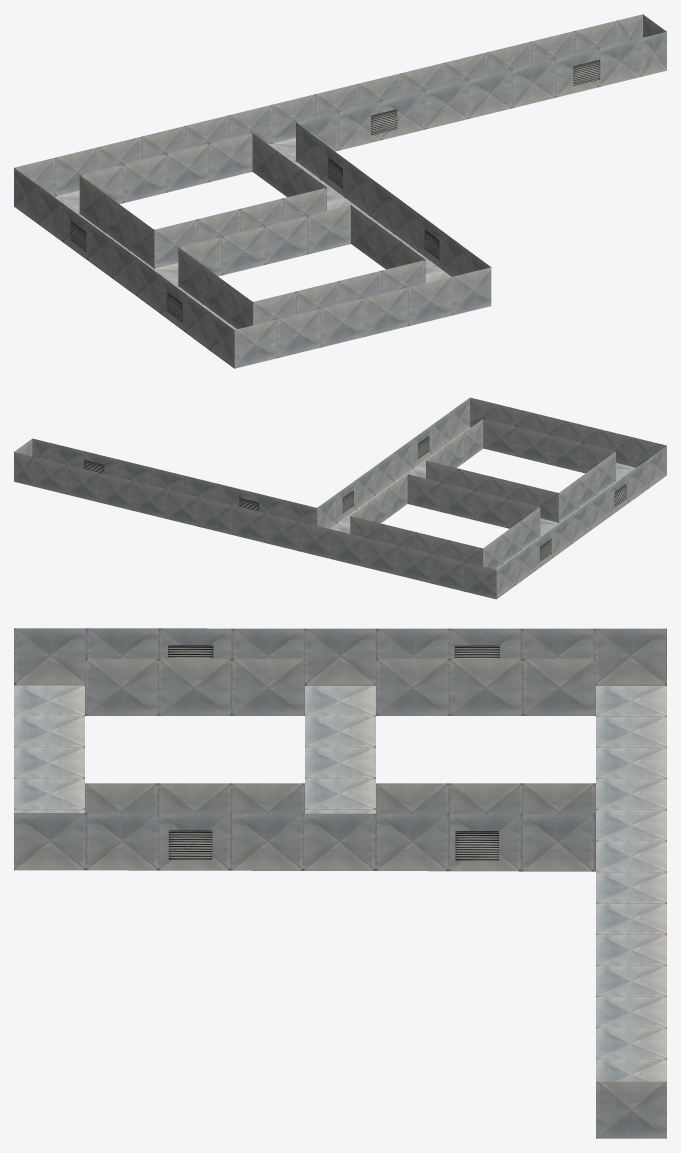
The model's file is VentLayout.fbx.
The picture shows the model from 3 angles, top to bottom: view 1: azimuth 30°, elevation 25°; view 2: azimuth 150°, elevation 25°; view 3: azimuth 270°, elevation 25°; orthographic projection. The views are drawn at different scales.
Parts seen in each view (by area): view 1: VentWall1, VentWall3, VentWall5, VentWall6, VentWall4, VentInteriorWall1, VentInteriorWall5, VentInteriorWall3, VentInteriorWall7, VentInteriorWall4, VentInteriorWall8, VentFloor (+4 smaller); view 2: VentWall1, VentWall3, VentWall6, VentWall4, VentWall5, VentInteriorWall3, VentInteriorWall7, VentInteriorWall5, VentInteriorWall1, VentInteriorWall8, VentInteriorWall4, VentFloor (+2 smaller); view 3: VentFloor, VentWall4, VentWall6, VentInteriorWall4, VentInteriorWall8, VentInteriorWall2, VentInteriorWall6, VentWall2, VentInsideDoor4, VentInsideDoor3.
Boxes of the visible parts, box(x1,y1,x2,y2) form: VentWall1: box(14, 14, 642, 196); VentWall3: box(296, 32, 666, 151); VentWall5: box(234, 267, 491, 368); VentWall6: box(14, 168, 234, 368); VentWall4: box(296, 122, 490, 276); VentInteriorWall1: box(80, 133, 252, 203); VentInteriorWall5: box(178, 205, 350, 276); VentInteriorWall3: box(154, 187, 326, 268); VentInteriorWall7: box(253, 260, 425, 325); VentInteriorWall4: box(79, 175, 154, 268); VentInteriorWall8: box(178, 247, 252, 329); VentFloor: box(54, 138, 451, 329); VentWall1: box(14, 452, 496, 599); VentWall3: box(32, 438, 316, 525); VentWall6: box(496, 446, 666, 598); VentWall4: box(317, 397, 469, 528); VentWall5: box(470, 397, 666, 467); VentInteriorWall3: box(407, 474, 539, 528); VentInteriorWall7: box(483, 419, 615, 473); VentInteriorWall5: box(426, 460, 558, 522); VentInteriorWall1: box(350, 516, 482, 566); VentInteriorWall8: box(558, 451, 615, 522); VentInteriorWall4: box(483, 507, 540, 569); VentFloor: box(329, 427, 635, 569); VentFloor: box(14, 685, 666, 1081); VentWall4: box(14, 813, 595, 871); VentWall6: box(14, 628, 666, 685); VentInteriorWall4: box(376, 658, 595, 715); VentInteriorWall8: box(85, 658, 304, 715); VentInteriorWall2: box(376, 783, 595, 814); VentInteriorWall6: box(85, 783, 304, 813); VentWall2: box(596, 1081, 666, 1138); VentInsideDoor4: box(168, 830, 212, 859); VentInsideDoor3: box(455, 831, 498, 860).
Bounding box in the file's own units: 676 × 411 × 39.78.
21 materials, 21 textured.
